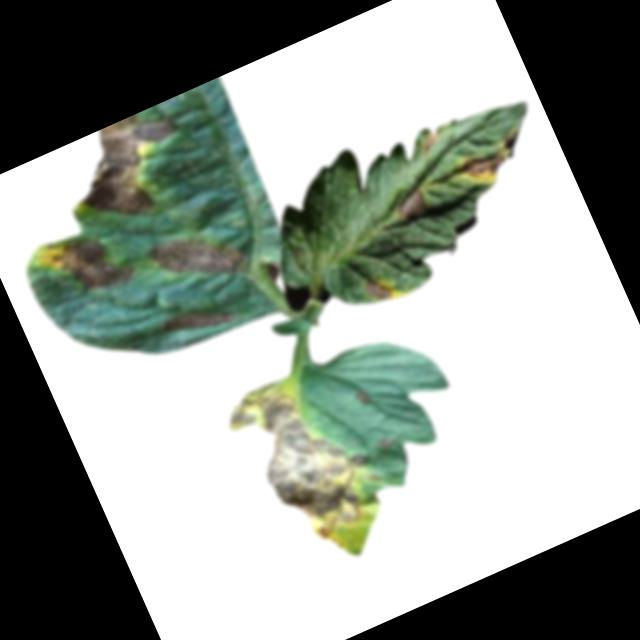Early_blight: (218, 359, 389, 557), (55, 102, 201, 235), (142, 210, 248, 304), (43, 217, 137, 307), (154, 288, 241, 351), (454, 142, 510, 192), (392, 184, 430, 221), (362, 270, 395, 305), (414, 127, 444, 159), (353, 384, 376, 408)
